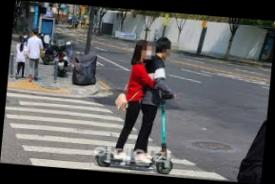multiple: (95, 32, 183, 174)
